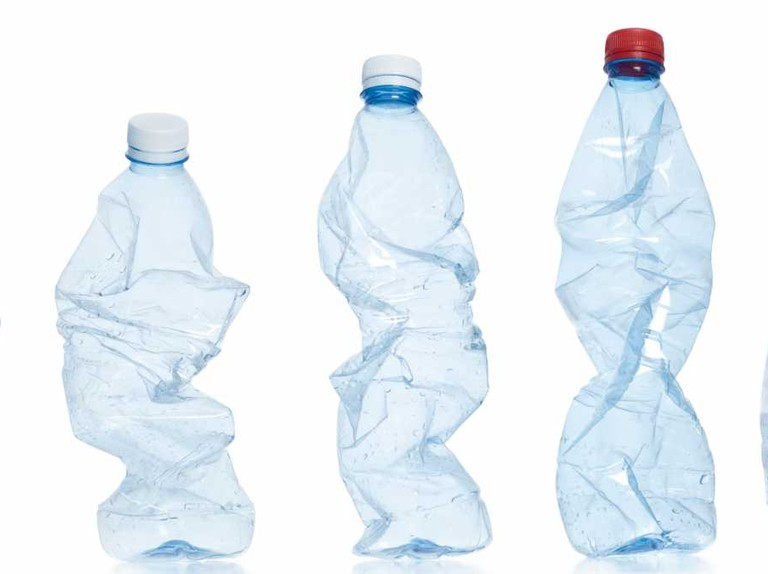plastic: (52, 28, 719, 572)
